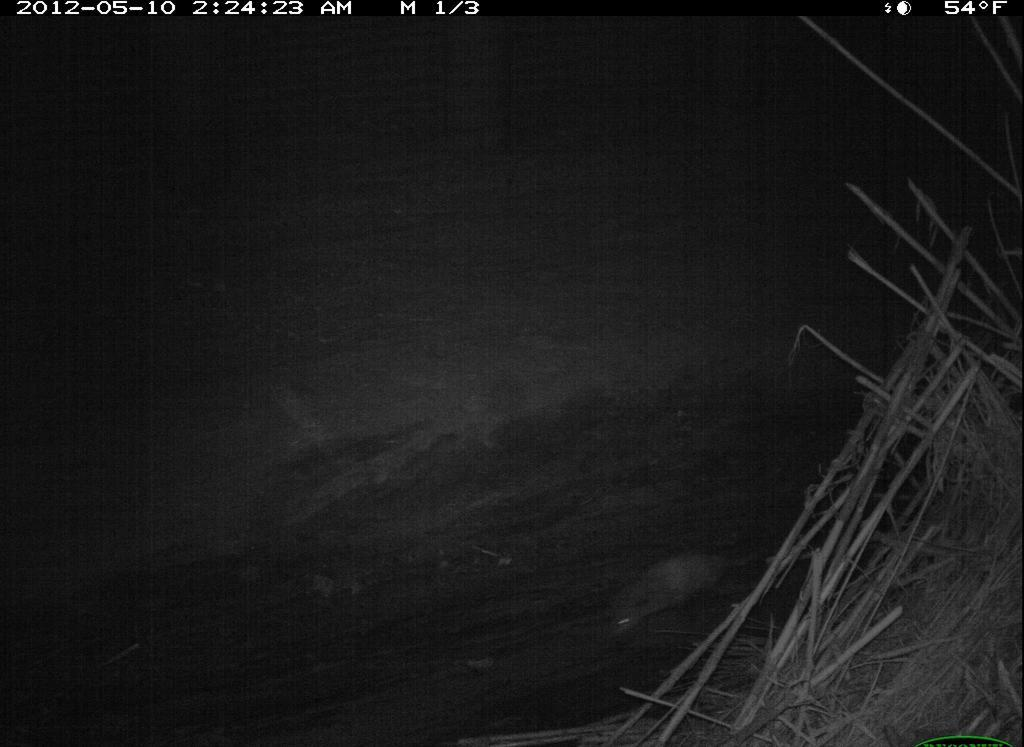opossum: (603, 538, 785, 644)
